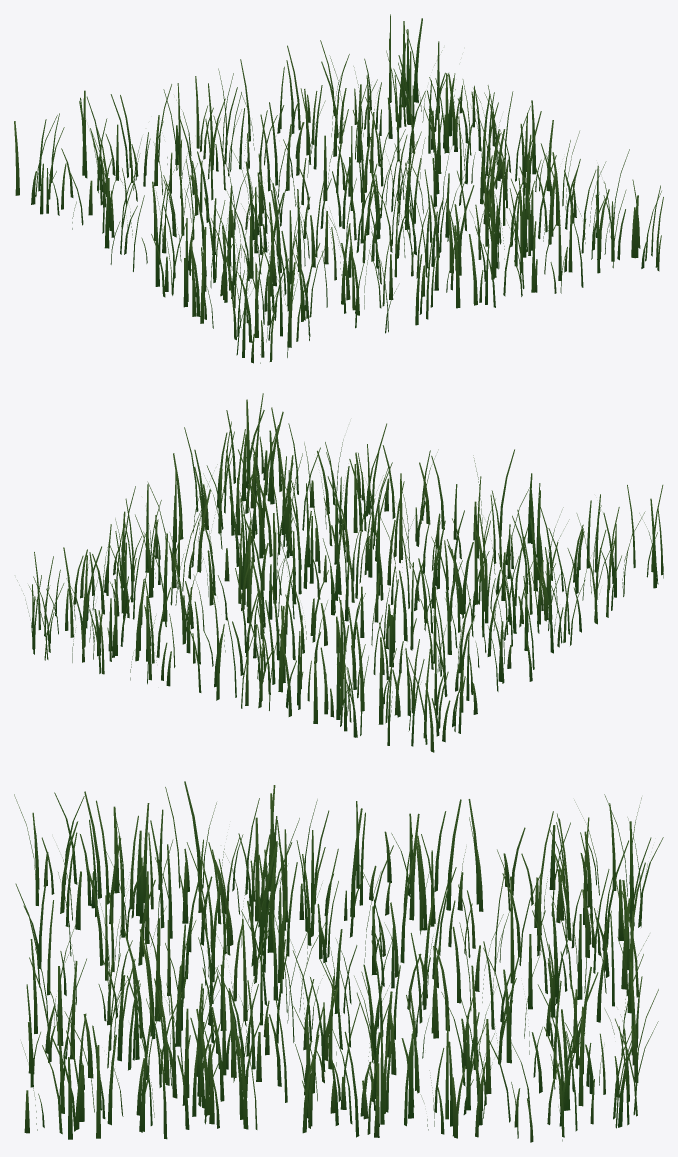
File: Turf_Sedge_v1.glb
3 views of the same model, one above another, from view 1: azimuth 30°, elevation 25°; view 2: azimuth 150°, elevation 25°; view 3: azimuth 270°, elevation 25° (orthographic). The views are drawn at different scales.
Visible parts, largest first — view 1: Turf_Sedge_v1; view 2: Turf_Sedge_v1; view 3: Turf_Sedge_v1.
Part boxes in pixels (x1,y1,x2,y2): Turf_Sedge_v1: (14, 14, 663, 363); Turf_Sedge_v1: (17, 393, 663, 752); Turf_Sedge_v1: (14, 781, 663, 1142).
Size of the model in its own units: 1.26 by 0.22 by 1.29.
